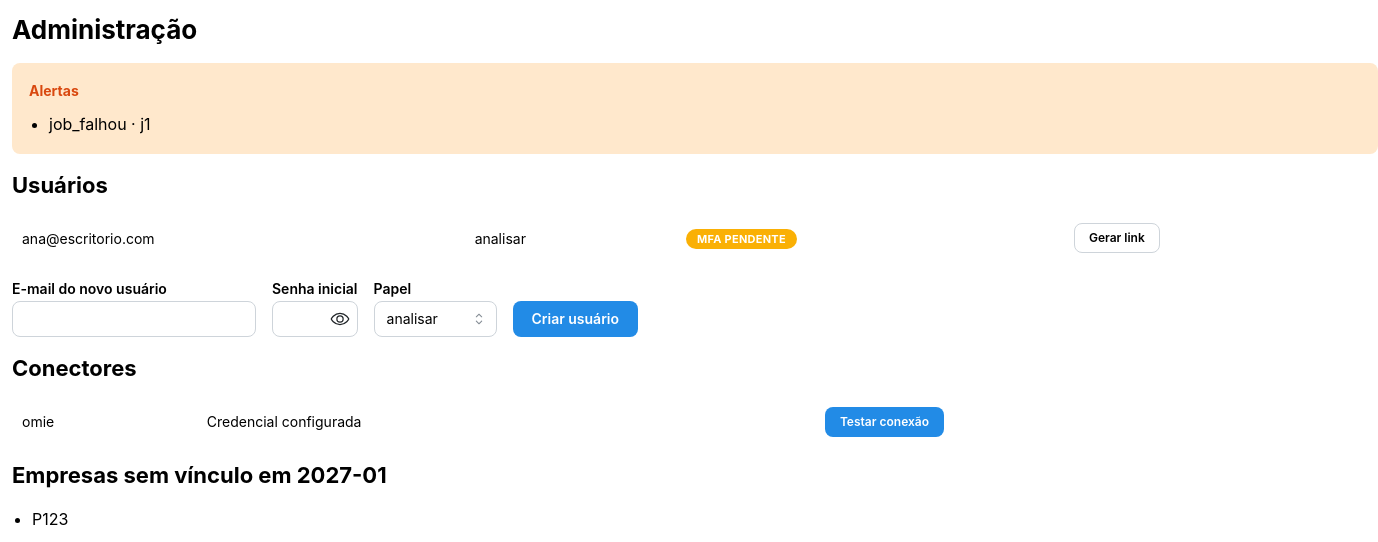
Test: administração › mostra conector configurado sem exibir segredo e testa a conexão
The width and height of the screenshot is (1378, 542).
expect the text "omie" shows "Credencial configurada": met, box [207,413,362,430]
Click the button "Testar conexão" at (884, 422), box [825,407,944,437]
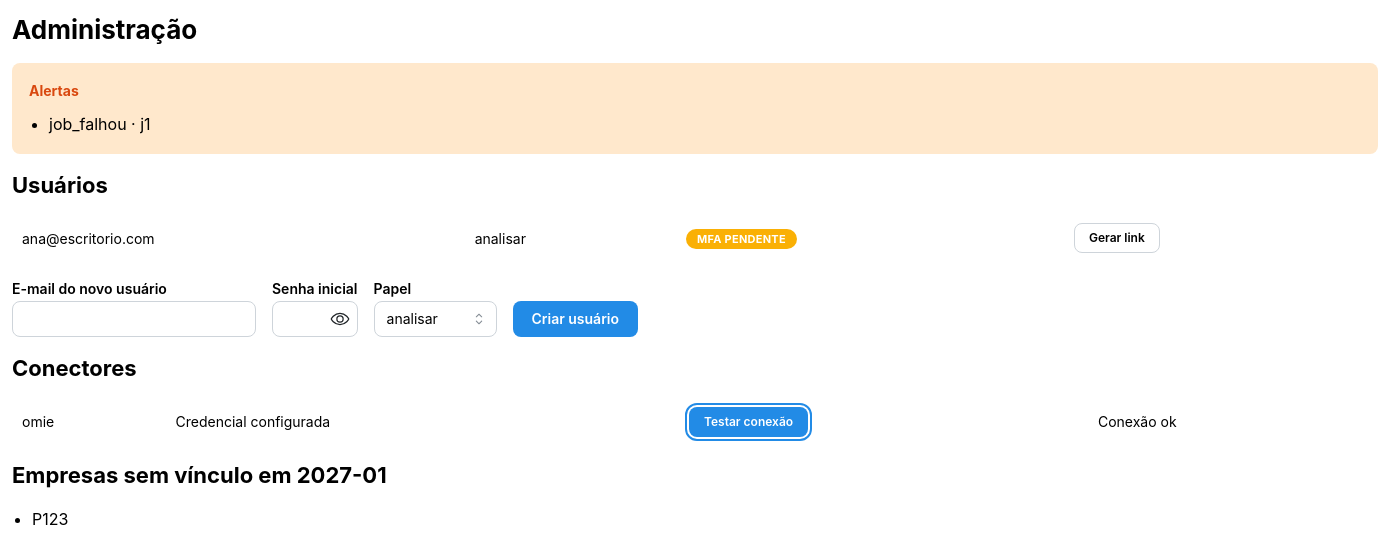
expect the text "Conexão ok" is shown: met, box [1088,400,1377,444]
